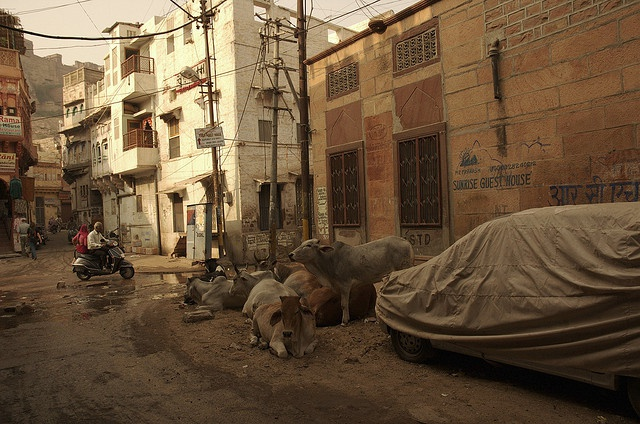non-vehicle: (71, 234, 134, 280), (67, 225, 77, 243)
